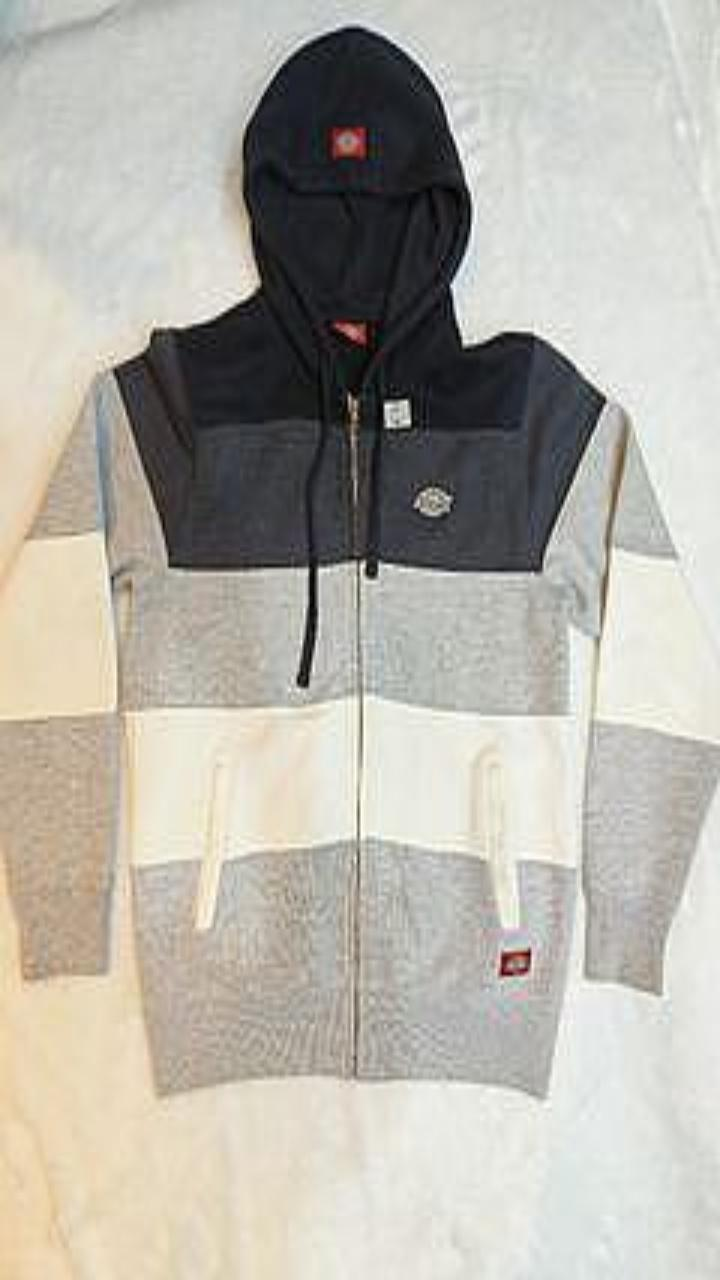Sports_Jacket: (0, 25, 719, 1096)
